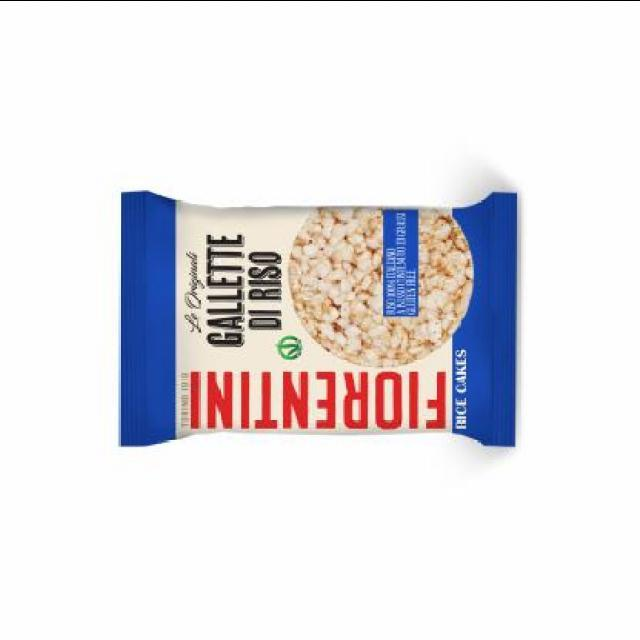Gallette di riso: (124, 169, 534, 460)
